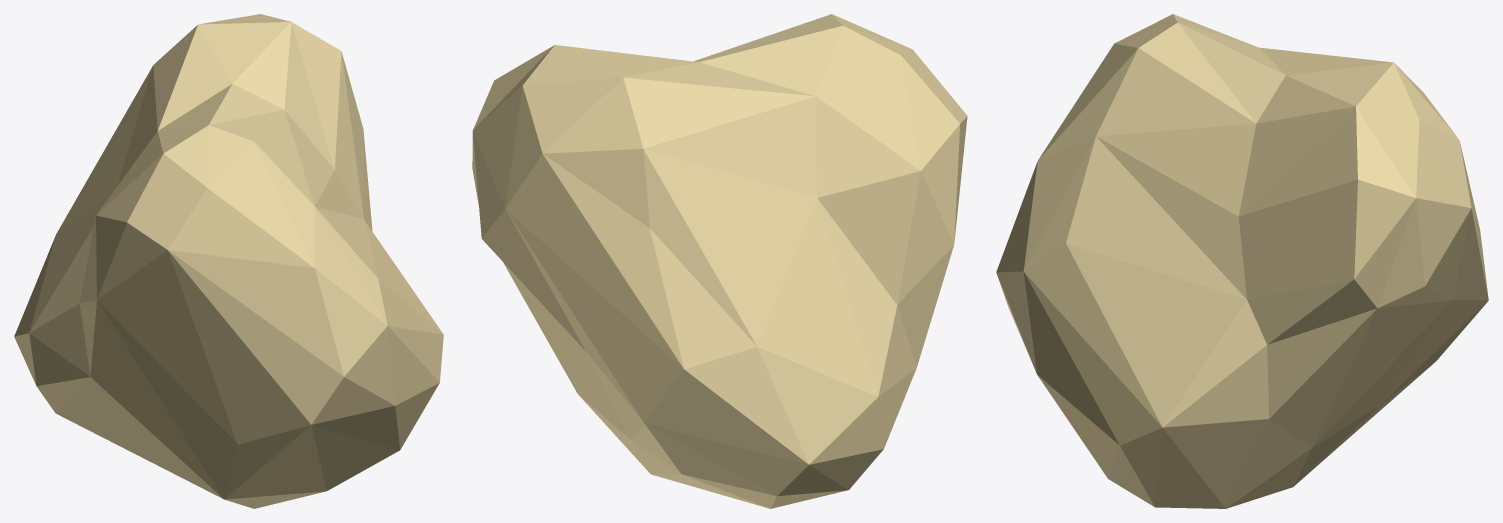
File: Rock (53).fbx
The picture shows the model from 3 angles, left to right: view 1: azimuth 30°, elevation 25°; view 2: azimuth 150°, elevation 25°; view 3: azimuth 270°, elevation 25°; orthographic projection. The views are drawn at different scales.
Visible parts, largest first — view 1: Asteroid52; view 2: Asteroid52; view 3: Asteroid52.
Part boxes in pixels (x1,y1,x2,y2): Asteroid52: (14, 14, 443, 508); Asteroid52: (472, 14, 967, 508); Asteroid52: (996, 14, 1488, 508).
Size of the model in its own units: 89.61 by 103 by 103.
